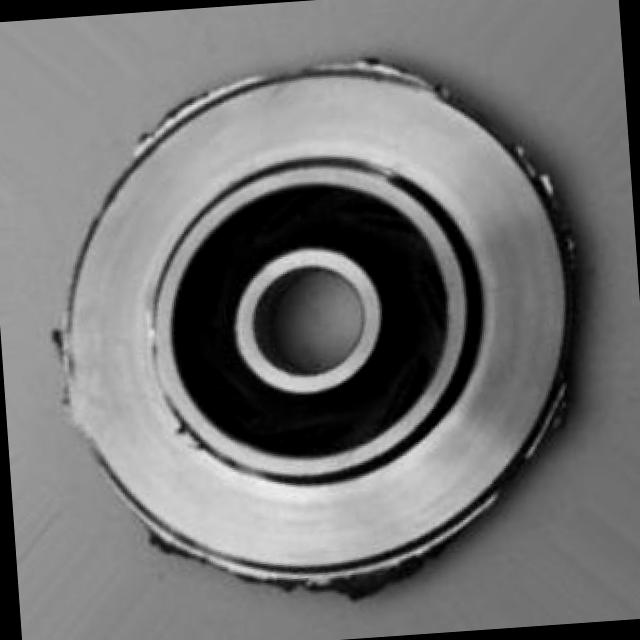Defect: (533, 369, 574, 458)
